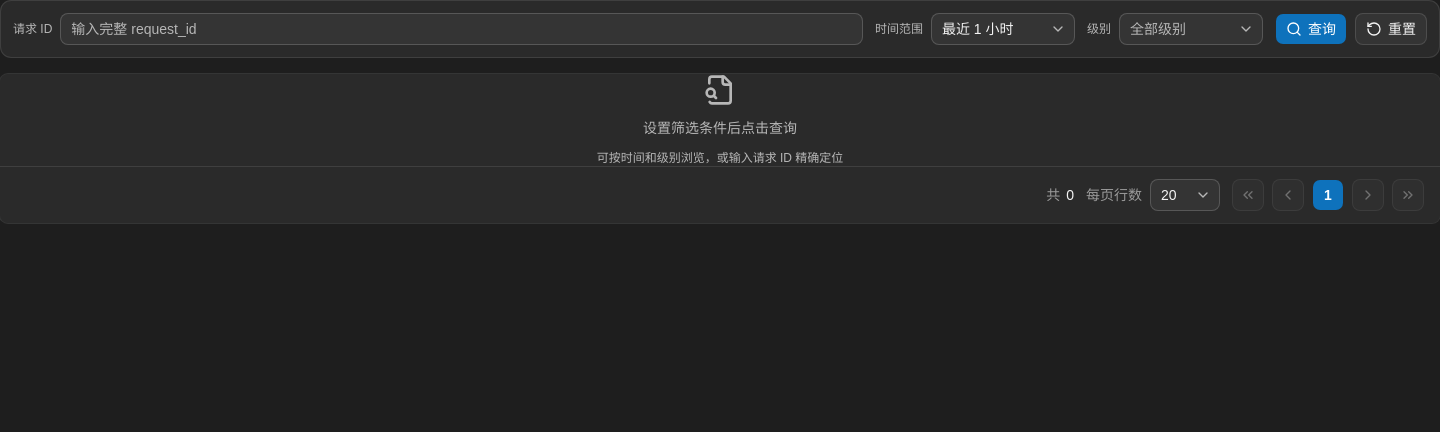
Test: 警告日志没有 HTTP 状态时展示真实级别，不标为已完成且长 Host 可换行
This screenshot has width=1440, height=432.
Click the button "查询": (1311, 29) [1275,13,1347,45]
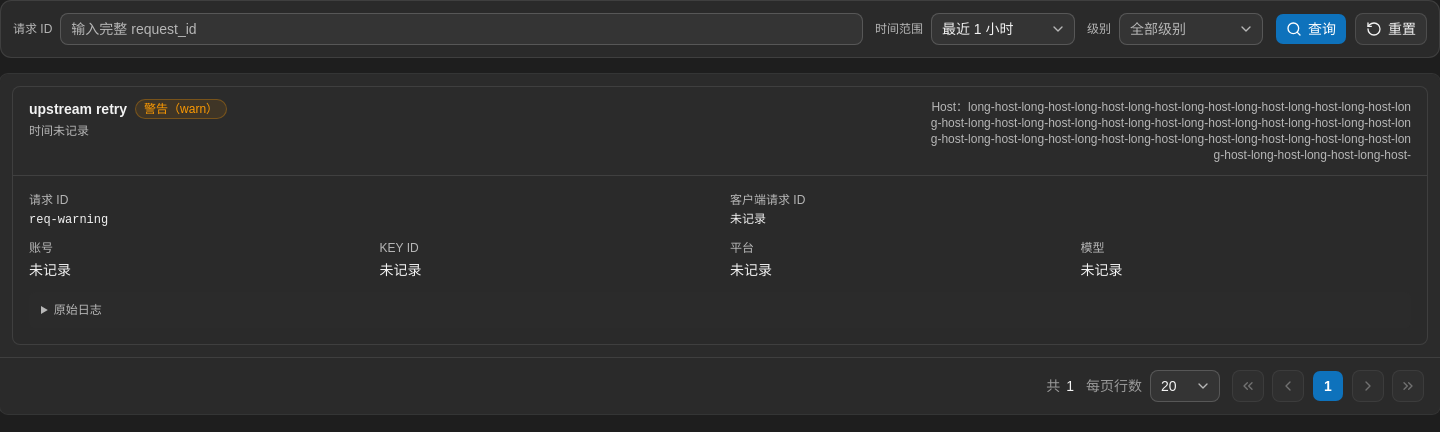
expect the text "req-warning" is shown: met, box [29,213,108,227]
expect the text "警告（warn）" is shown: met, box [144,100,218,118]
